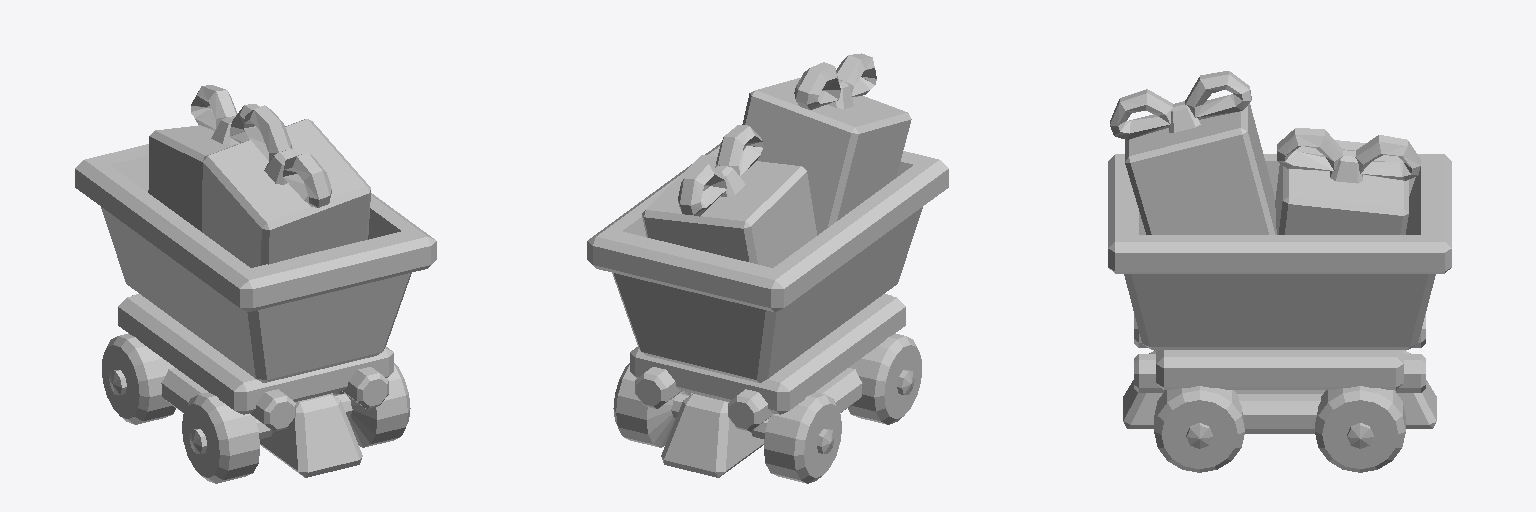
File: train_tender_presents_A.obj
3 renders of one model, left to right at view 1: azimuth 30°, elevation 25°; view 2: azimuth 150°, elevation 25°; view 3: azimuth 270°, elevation 25°, orthographic.
Parts seen in each view (by area): view 1: train_tender_presents_A; view 2: train_tender_presents_A; view 3: train_tender_presents_A.
Part boxes in pixels (left/top/right/bottom): train_tender_presents_A: left=75, top=85, right=436, bottom=483; train_tender_presents_A: left=587, top=53, right=948, bottom=483; train_tender_presents_A: left=1108, top=71, right=1451, bottom=472.
Bounding box in the file's own units: 0.4459 × 0.715 × 0.6421.